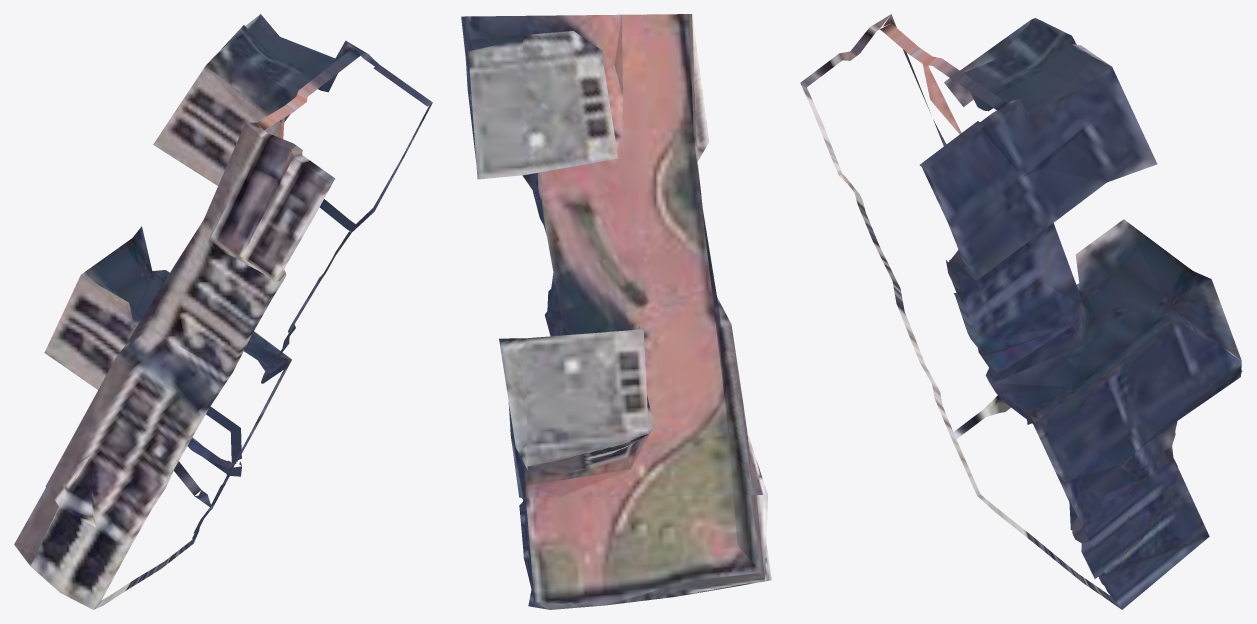
The picture shows the model from 3 angles, left to right: view 1: azimuth 30°, elevation 25°; view 2: azimuth 150°, elevation 25°; view 3: azimuth 270°, elevation 25°; orthographic projection. The views are drawn at different scales.
Bounding box in the file's own units: 33.39 × 47.69 × 32.44.
Materials: 1 (1 with a texture image).
